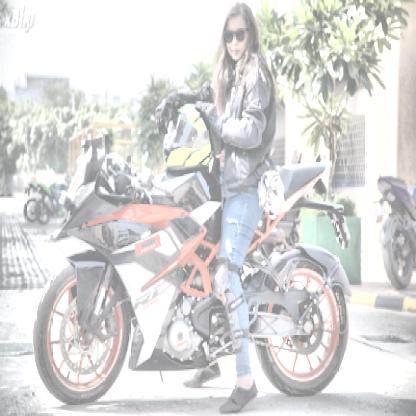not_wear: (221, 4, 257, 67)
